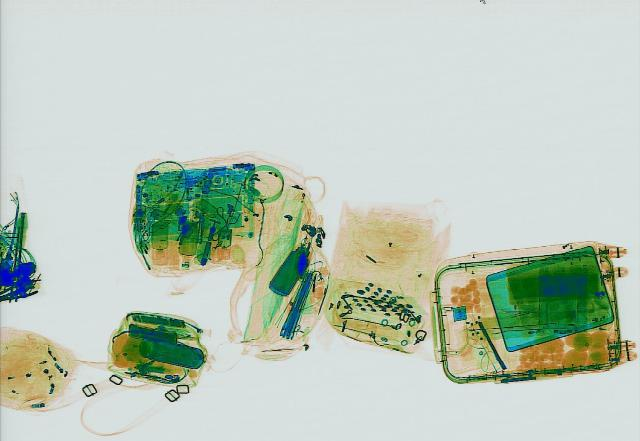Pliers: (0, 275, 49, 301)
